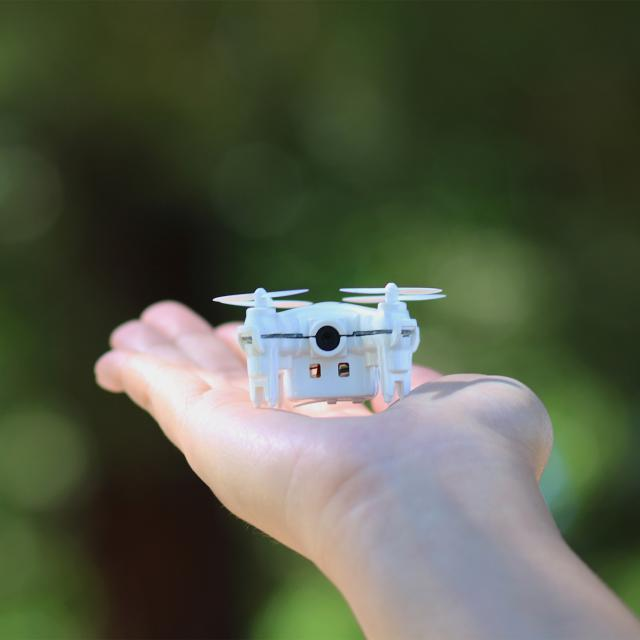drones: (210, 279, 444, 420)
